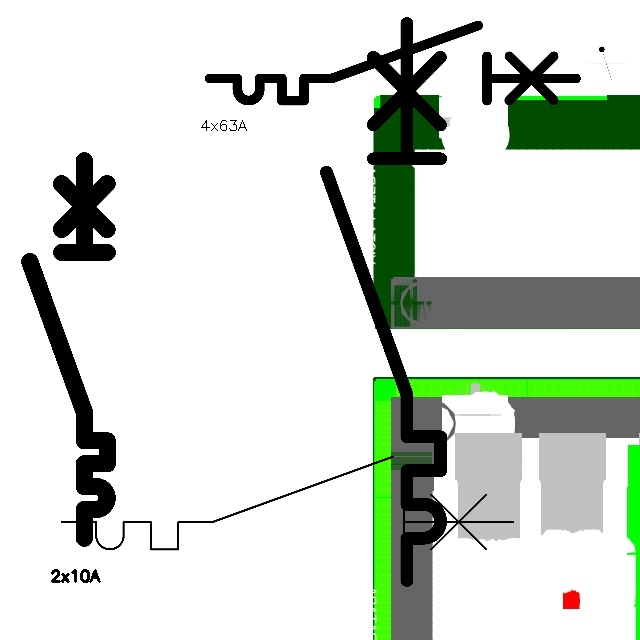interruptor_termomagnetico: (312, 9, 455, 595), (50, 445, 525, 561), (20, 151, 117, 548), (200, 16, 585, 110)
